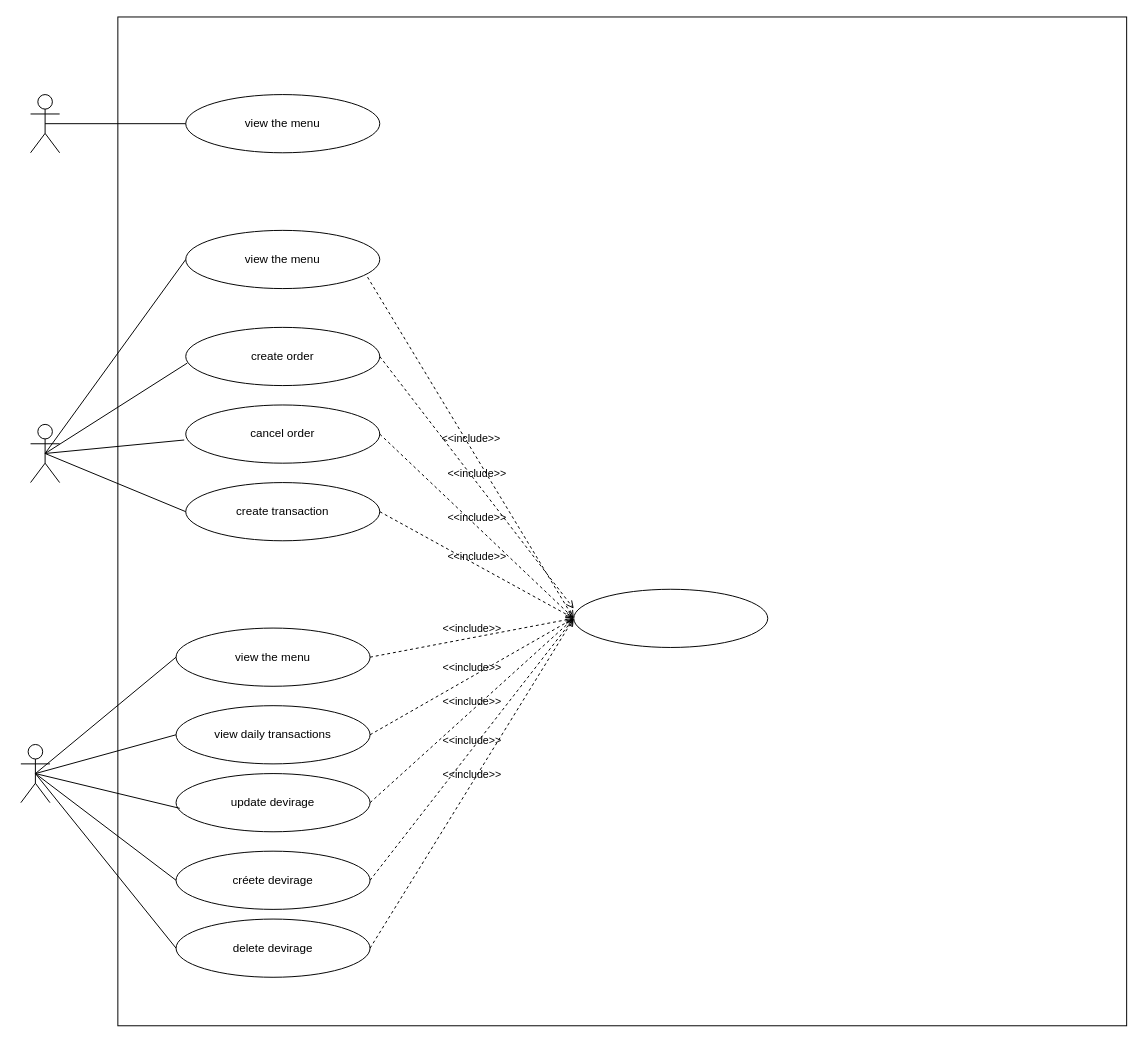
Some shapes in this 1144 by 1043 pixel diagram are drawn without their labels. Each missing label, with the box of its shape:
aowner: (20, 744, 50, 803)
autentification: (573, 588, 768, 647)
client: (30, 94, 60, 153)
waiter: (30, 423, 60, 483)
